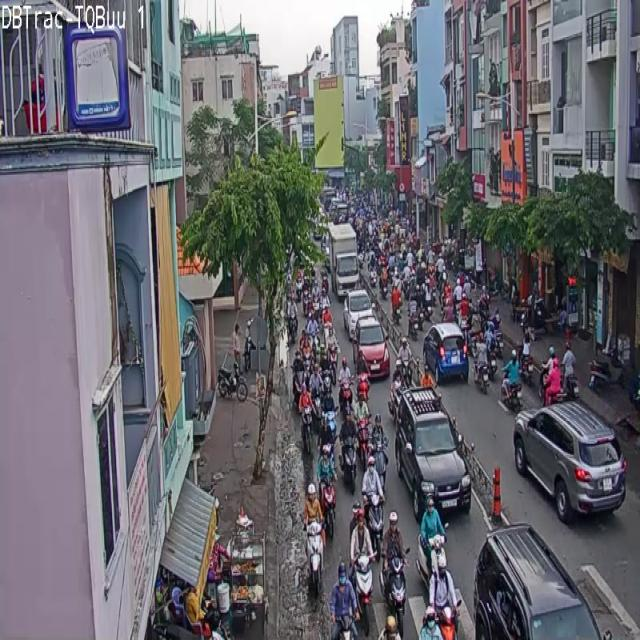car: (350, 511, 374, 634), (384, 558, 406, 639), (318, 445, 336, 538), (305, 511, 324, 596), (362, 457, 383, 505), (307, 485, 315, 498)
traffic-light: (514, 401, 626, 522), (394, 388, 471, 521), (354, 320, 389, 377)
